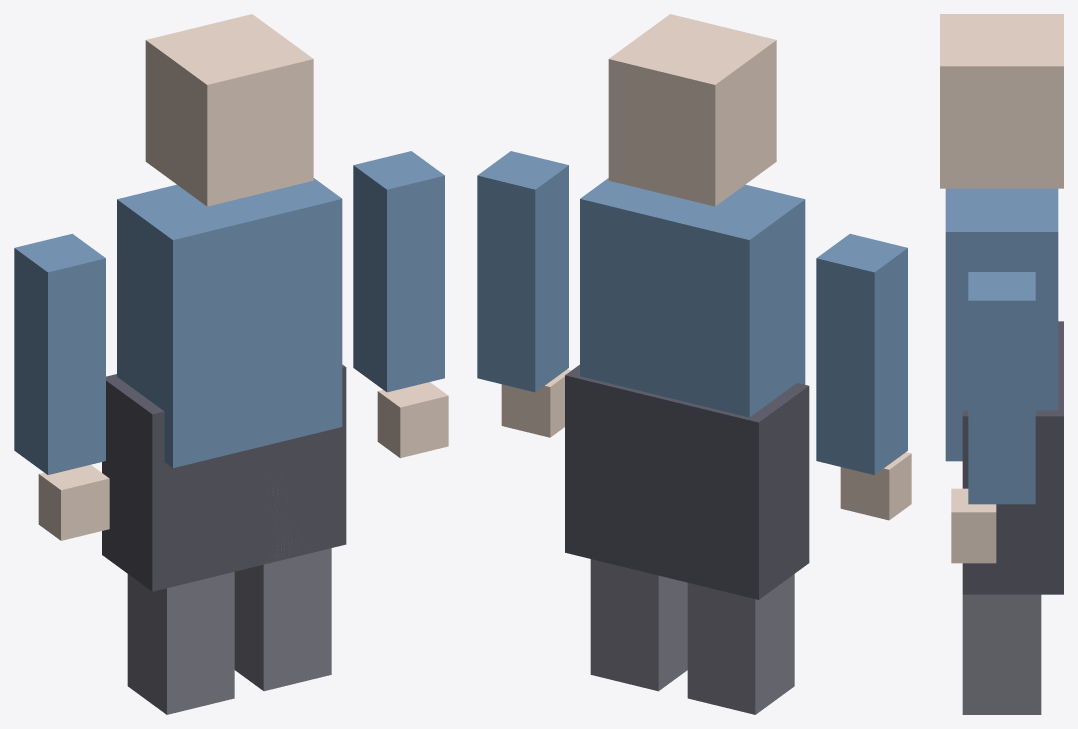
File: demo_crowd.glb
3 views of the same model, side by side, from view 1: azimuth 30°, elevation 25°; view 2: azimuth 150°, elevation 25°; view 3: azimuth 270°, elevation 25° (orthographic).
Visible parts, largest first — view 1: demo_crowd; view 2: demo_crowd; view 3: demo_crowd.
Boxes of the visible parts, left/top/right/bottom form: demo_crowd: left=14, top=14, right=448, bottom=714; demo_crowd: left=477, top=14, right=911, bottom=714; demo_crowd: left=940, top=14, right=1063, bottom=714.
Bounding box in the file's own units: 0.7574 × 1.15 × 0.2032.
